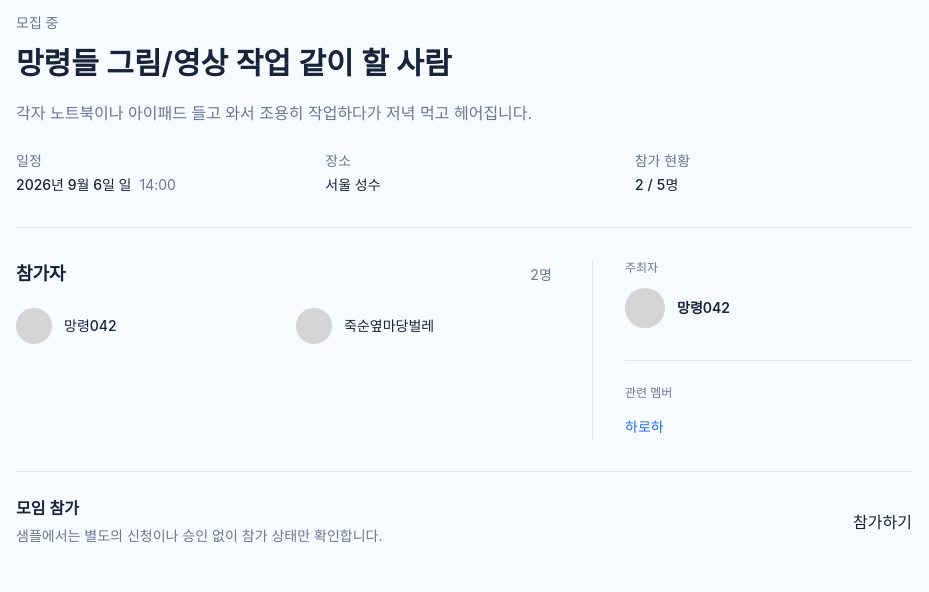
it: GatheringDetailView › 참가하기를 선택하면 Detail View 안에서 참가 중 상태로 전환합니다.
Click the button "참가하기" at x=883, y=522, box [853, 509, 912, 535]
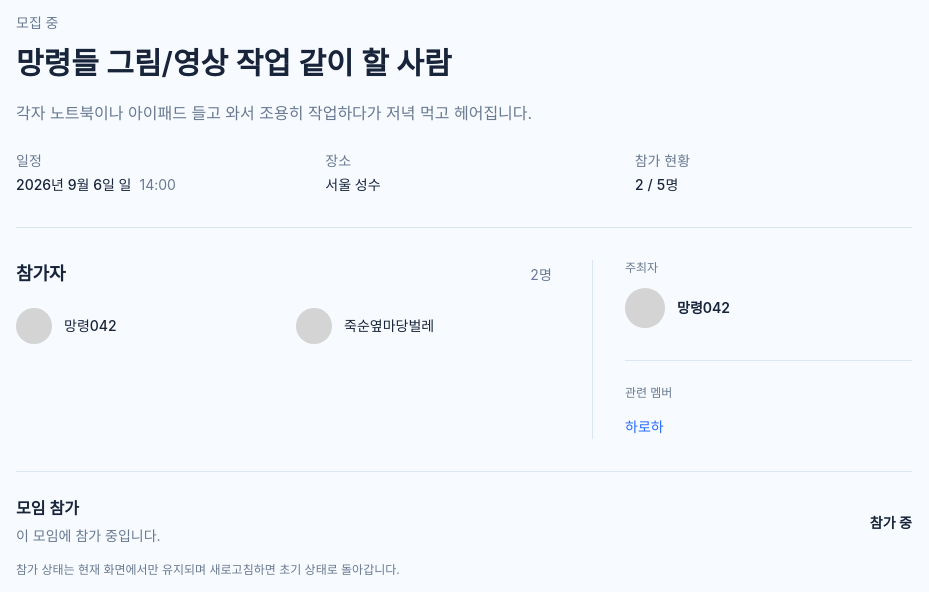
Now the text "이 모임에 참가 중입니다." is shown, box [16, 524, 161, 548]
Now the text "참가 중" is shown, box [870, 514, 912, 531]
Now the button "참가하기" is gone
